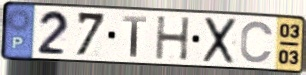2: (34, 8, 72, 58)
7: (74, 11, 108, 58)
C: (238, 19, 275, 65)
H: (154, 15, 192, 62)
T: (121, 14, 149, 59)
X: (201, 16, 239, 66)
